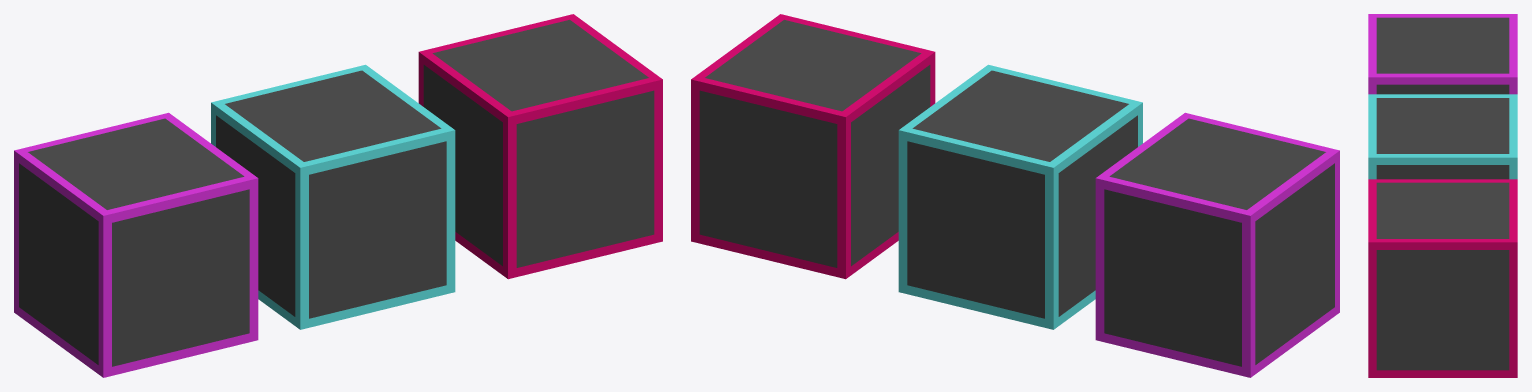
3 views of the same model, side by side, from view 1: azimuth 30°, elevation 25°; view 2: azimuth 150°, elevation 25°; view 3: azimuth 270°, elevation 25° (orthographic). The views are drawn at different scales.
Parts seen in each view (by area): view 1: pCube1, pasted__pCube2, pasted__pCube1; view 2: pCube1, pasted__pCube2, pasted__pCube1; view 3: pasted__pCube2, pasted__pCube1, pCube1.
Boxes of the visible parts, x1,y1,x2,y2 form: pCube1: [14, 112, 258, 377]; pasted__pCube2: [418, 14, 662, 279]; pasted__pCube1: [211, 64, 455, 329]; pCube1: [1095, 112, 1339, 377]; pasted__pCube2: [691, 14, 935, 279]; pasted__pCube1: [898, 64, 1142, 329]; pasted__pCube2: [1368, 179, 1517, 377]; pasted__pCube1: [1368, 94, 1517, 179]; pCube1: [1368, 14, 1517, 94].
Size of the model in its own units: 36.13 by 10 by 10.
